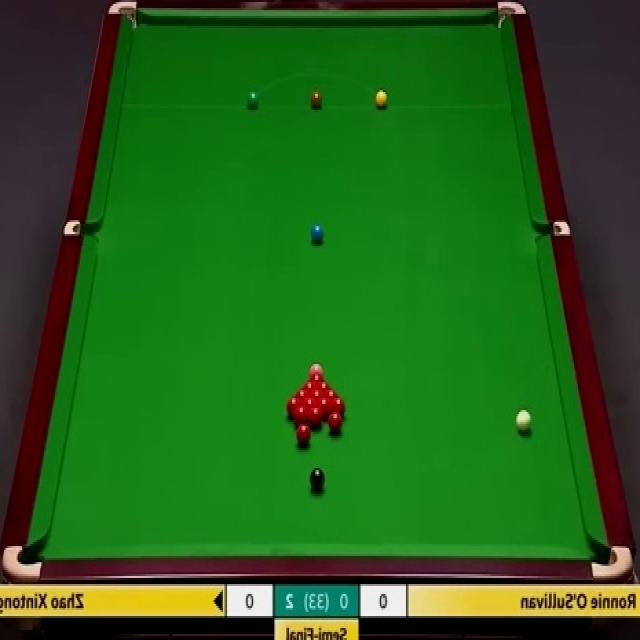black-ball: (308, 468, 326, 492)
blue-ball: (310, 222, 324, 247)
brown-ball: (310, 90, 323, 109)
green-ball: (246, 90, 259, 109)
pink-ball: (308, 362, 324, 377)
red-ball: (295, 423, 311, 448), (294, 404, 308, 427), (316, 397, 330, 419), (308, 408, 322, 429), (332, 396, 346, 416), (287, 398, 300, 419), (304, 379, 317, 399), (308, 390, 322, 408), (329, 413, 342, 432), (296, 388, 309, 406), (317, 380, 330, 397), (309, 374, 325, 387), (324, 390, 337, 403)
white-ball: (515, 408, 533, 436)
yellow-ball: (375, 90, 388, 109)
